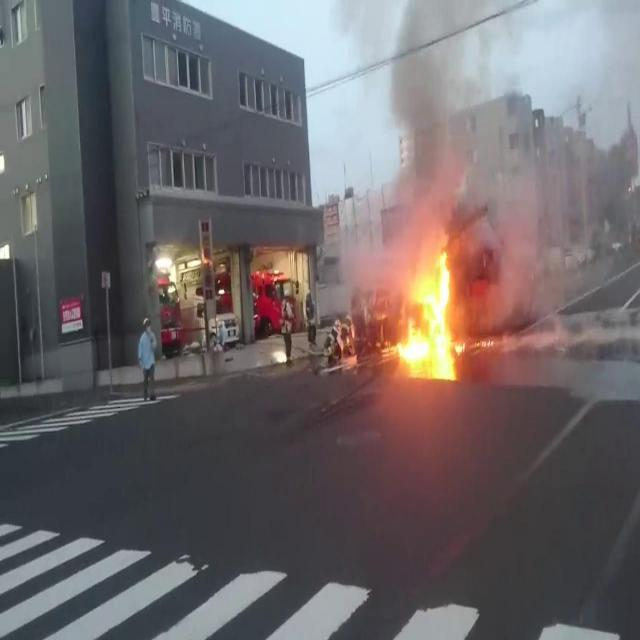Fire: (398, 252, 468, 358)
